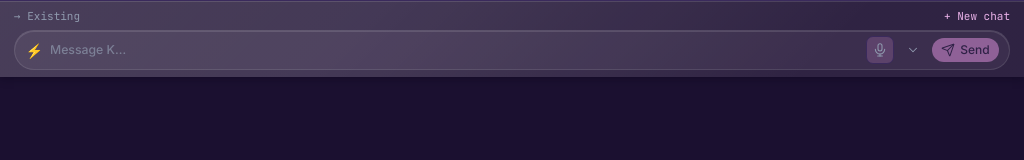
Test: MessageDock › + New chat sets the selection to null
Check: the text "→ Existing" is shown, box [14, 8, 80, 24]
Click the button with test id "dock-new-chat". click: click(977, 16)
box: [944, 8, 1010, 24]
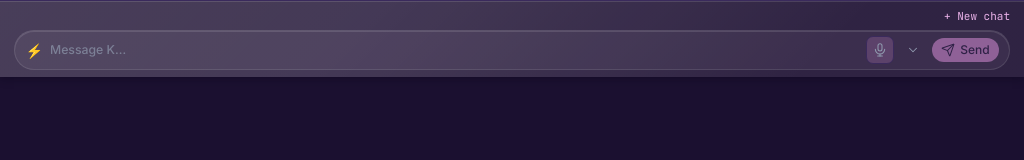
Check: the text with test id "dock-target" is gone
